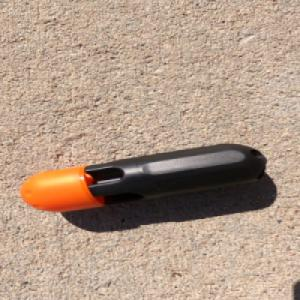PlasticPart: (17, 142, 267, 213)
